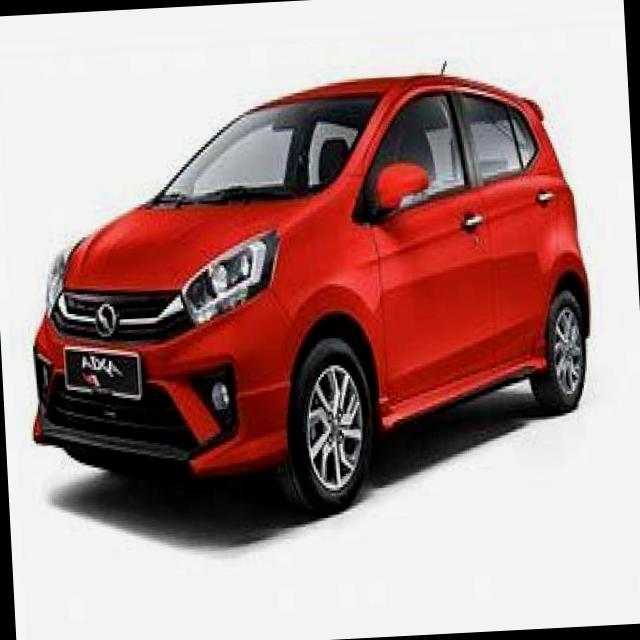PeroduaAxia: (14, 55, 603, 532)
